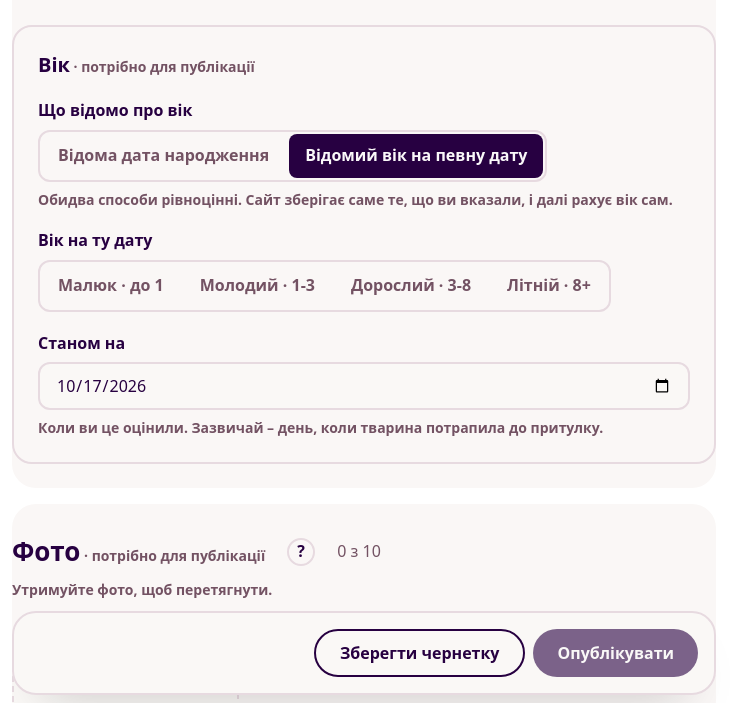
a draft saves itself (T6) › the age line quotes the card's own word once a bucket is chosen
The width and height of the screenshot is (733, 703).
(page scrolled)
Click the radio button labelled "Молодий · 1-3".
click(257, 285)  # box [200,274,315,296]
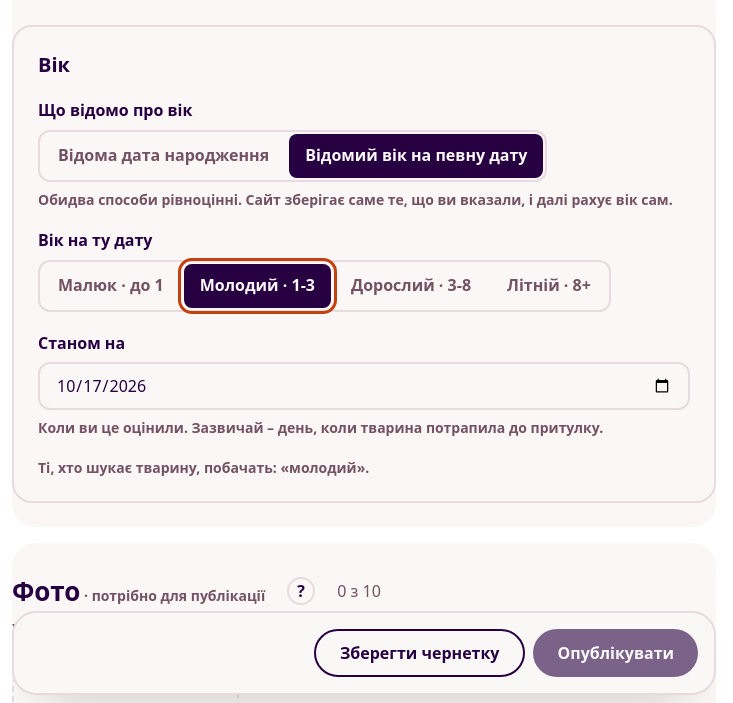
Now the text "Ті, хто шукає тварину, побачать: «молодий»." is shown, box [38,458,369,477]
